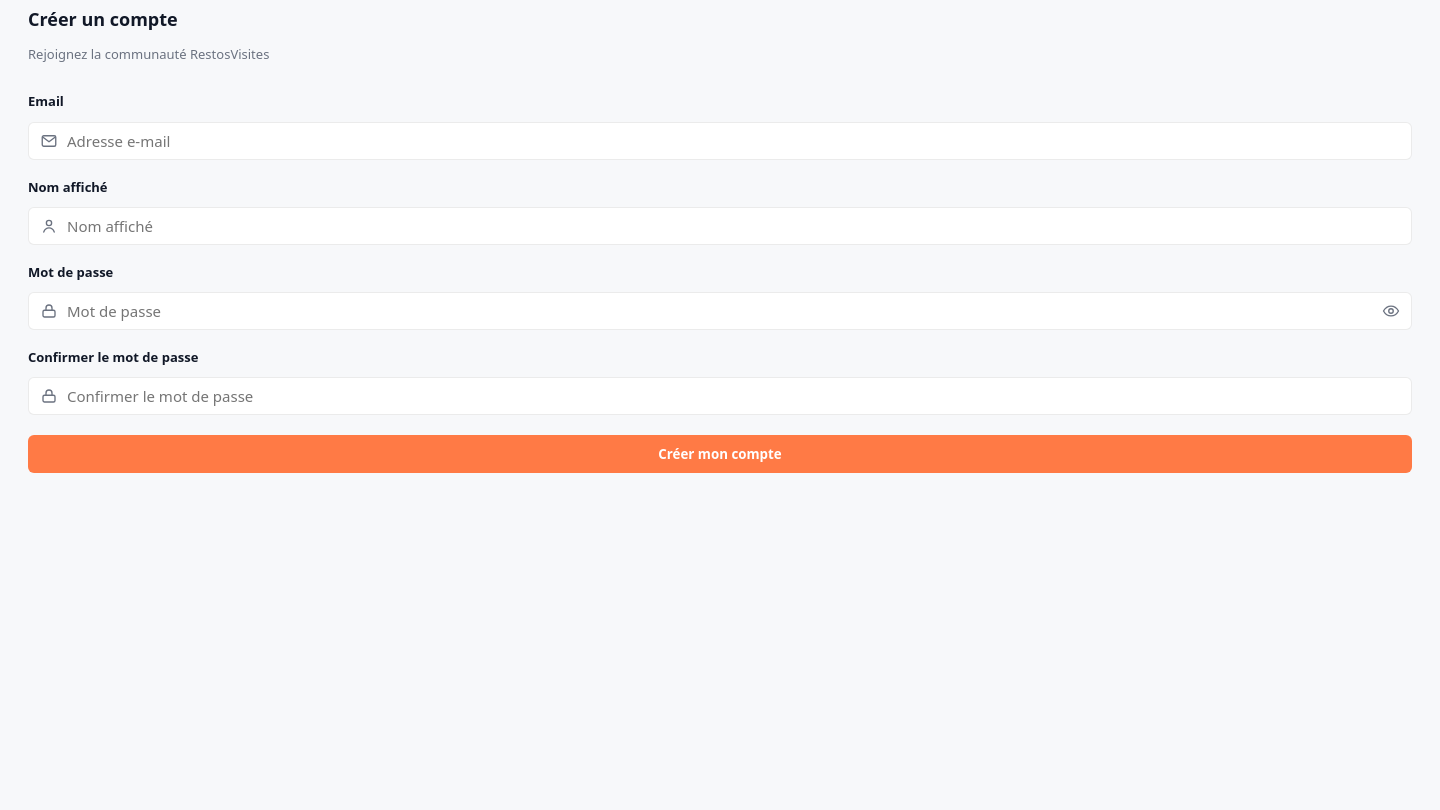
Scenario: RegisterPage › bloque la soumission tant que le mot de passe ne respecte pas la politique
In the field labelled "Email": (720, 141) [28,122,1412,160], type "user@example.com"
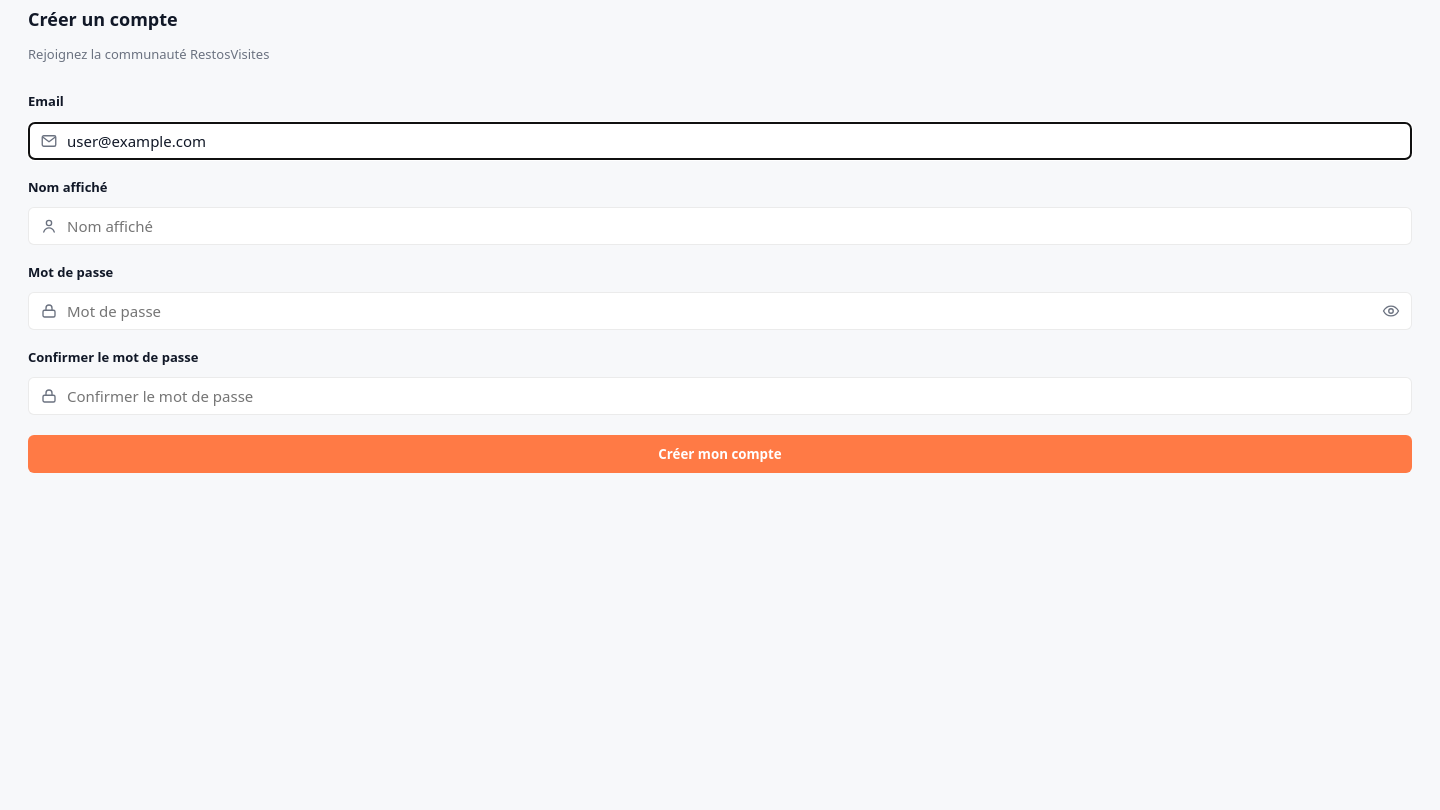
In the field labelled "Nom affiché": (720, 226) [28,207,1412,245], type "Une Personne"
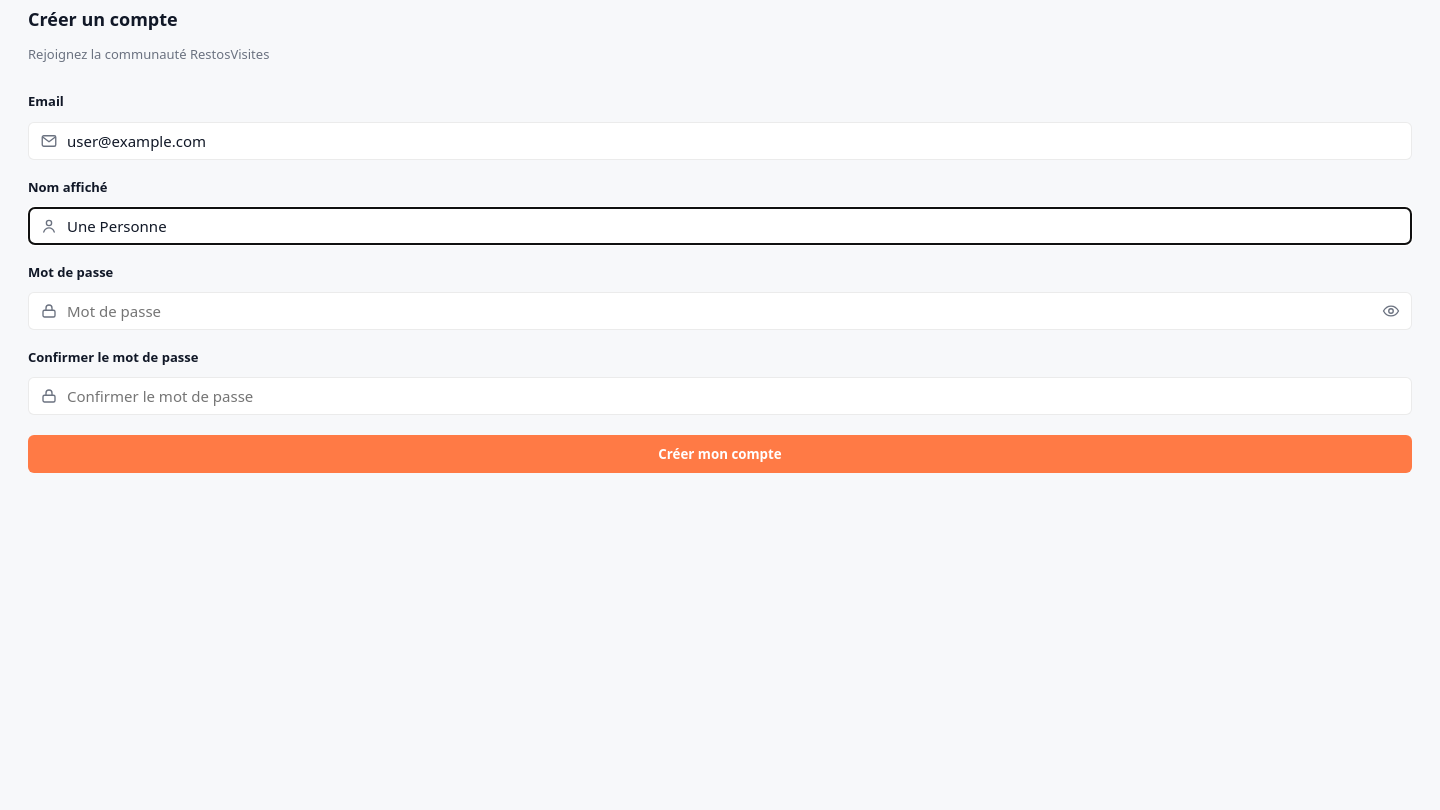
In the password field labelled "Mot de passe": (720, 311) [28,292,1412,330], type "faible"
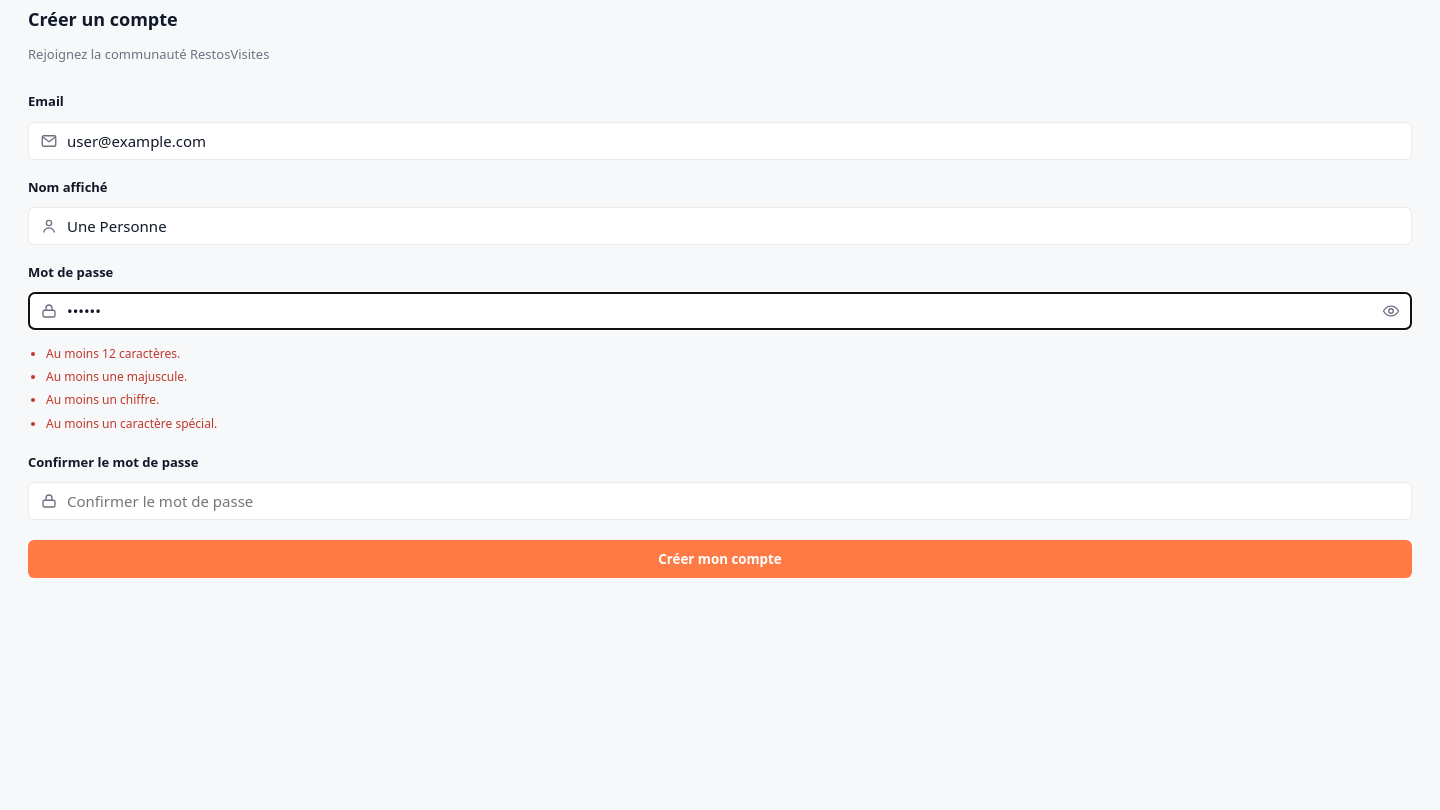
In the password field labelled "Confirmer le mot de passe": (720, 501) [28,482,1412,520], type "faible"
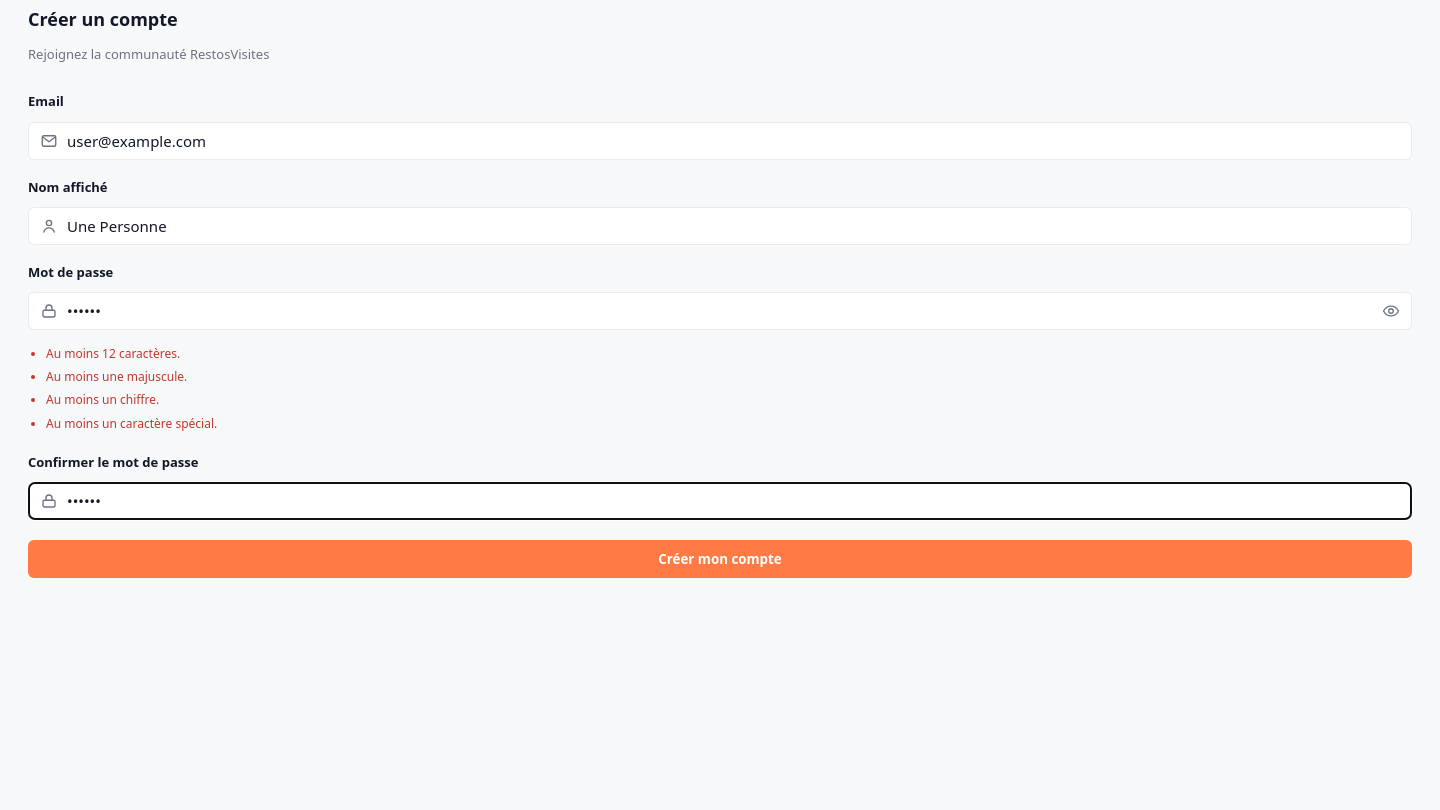
Click the button "Créer mon compte": (720, 559) [28,540,1412,578]
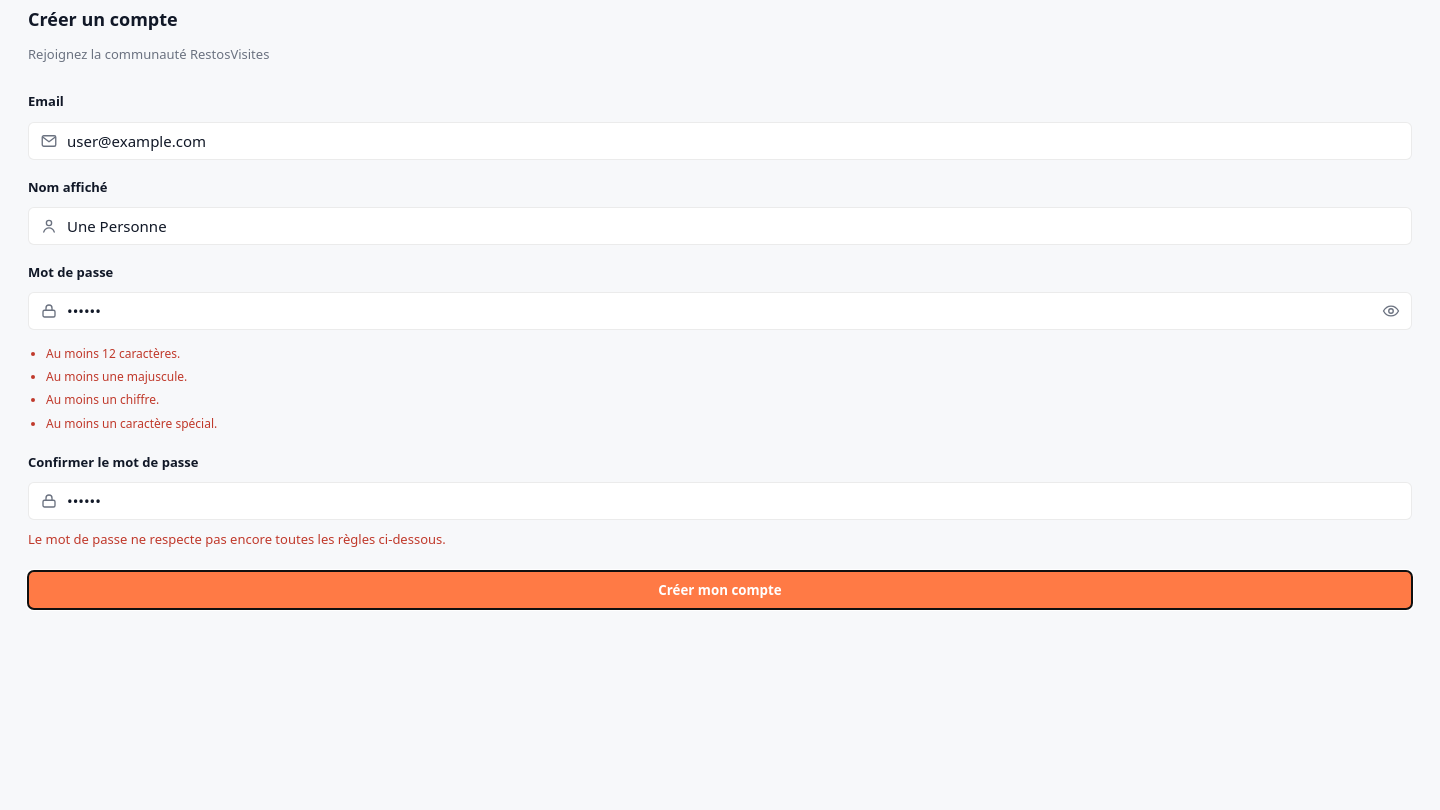
expect the text "Le mot de passe ne respecte pas encore toutes les règles ci-dessous." is shown: met, box [28,530,446,548]
